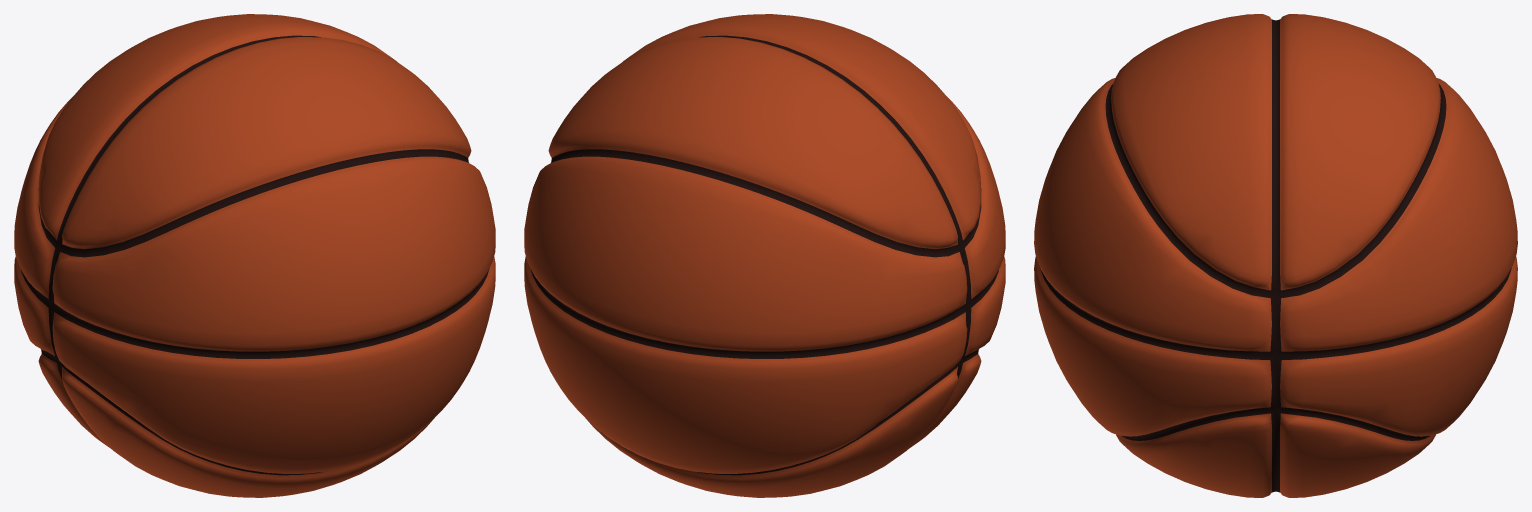
File: basketball.fbx
3 views of the same model, side by side, from view 1: azimuth 30°, elevation 25°; view 2: azimuth 150°, elevation 25°; view 3: azimuth 270°, elevation 25° (orthographic).
Parts seen in each view (by area): view 1: Cube; view 2: Cube; view 3: Cube.
Part boxes in pixels (box(x1,y1,x2,y2)): Cube: box(14, 14, 495, 497); Cube: box(524, 14, 1005, 497); Cube: box(1034, 14, 1517, 497).
Bounding box in the file's own units: 161 × 161 × 161.
